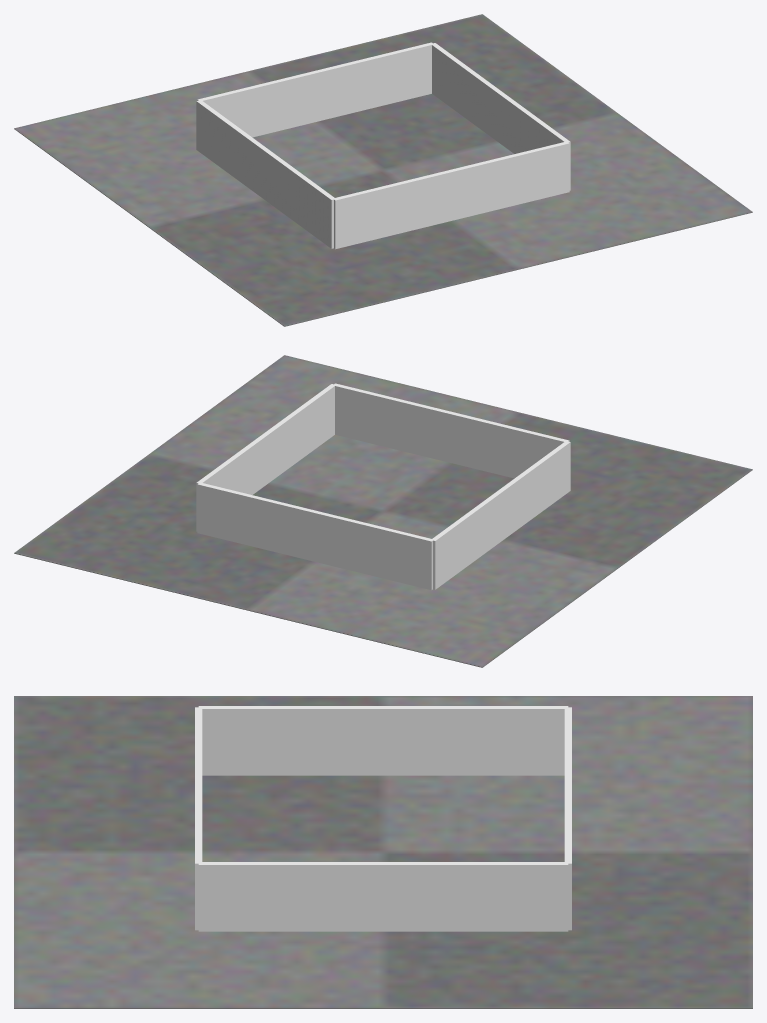
Rendered from lobby03.gltf.
3 views of the same model, one above another, from view 1: azimuth 30°, elevation 25°; view 2: azimuth 150°, elevation 25°; view 3: azimuth 270°, elevation 25° (orthographic). The views are drawn at different scales.
Visible parts, largest first — view 1: 立方体, 立方体.002, 立方体.004, 立方体.001, 立方体.003; view 2: 立方体, 立方体.004, 立方体.002, 立方体.001, 立方体.003; view 3: 立方体, 立方体.003, 立方体.001, 立方体.002, 立方体.004.
Boxes of the visible parts, x1,y1,x2,y2 form: 立方体: [14, 14, 752, 326]; 立方体.002: [333, 141, 569, 249]; 立方体.004: [197, 42, 433, 137]; 立方体.001: [196, 100, 335, 248]; 立方体.003: [431, 43, 570, 190]; 立方体: [14, 355, 752, 667]; 立方体.004: [197, 482, 433, 590]; 立方体.002: [333, 383, 569, 478]; 立方体.001: [431, 441, 570, 589]; 立方体.003: [196, 384, 335, 531]; 立方体: [14, 696, 752, 1008]; 立方体.003: [198, 862, 568, 931]; 立方体.001: [198, 706, 568, 775]; 立方体.002: [195, 707, 202, 930]; 立方体.004: [564, 707, 571, 930].
Bounding box in the file's own units: 200 × 20.1 × 200.
